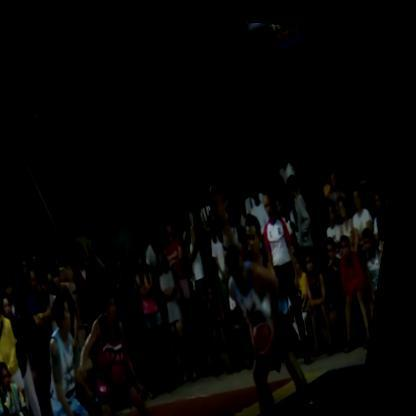basketball: (251, 307, 296, 361)
rim: (246, 18, 314, 62)
